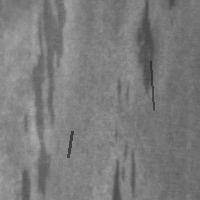inclusion: (18, 1, 71, 198), (110, 75, 139, 199), (134, 1, 158, 95), (148, 59, 155, 112), (166, 1, 179, 26), (66, 129, 74, 159)
